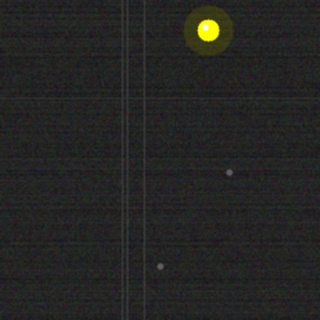yellow_warning: (195, 17, 221, 43)
